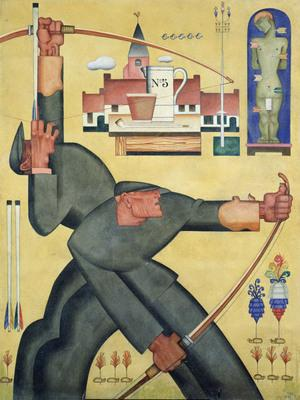person: (9, 16, 207, 400), (34, 176, 294, 400), (246, 8, 295, 147)
